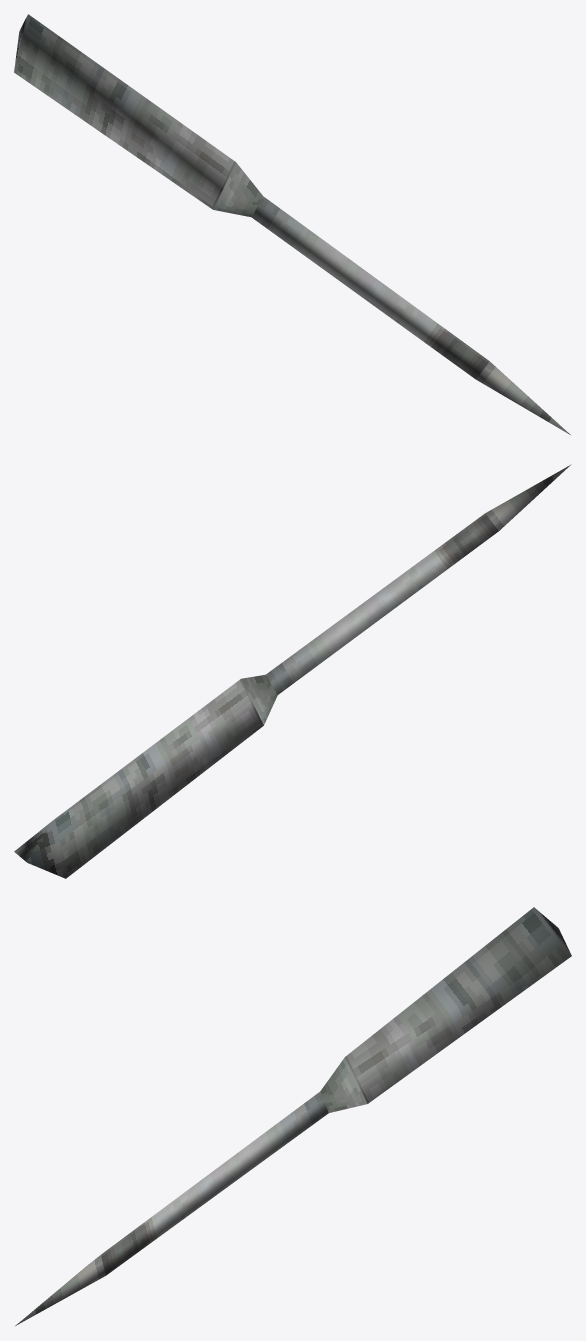
The model's file is xwing_weapon2_neg_s05_l3.fbx.
3 views of the same model, one above another, from view 1: azimuth 30°, elevation 25°; view 2: azimuth 150°, elevation 25°; view 3: azimuth 330°, elevation 25° (orthographic).
Visible parts, largest first — view 1: mesh_node; view 2: mesh_node; view 3: mesh_node.
Boxes of the visible parts, left/top/right/bottom form: mesh_node: left=14, top=14, right=570, bottom=434; mesh_node: left=14, top=464, right=571, bottom=878; mesh_node: left=15, top=907, right=571, bottom=1325.
Bounding box in the file's own units: 0.2293 × 0.2254 × 4.1.
Materials: 1 (1 with a texture image).
